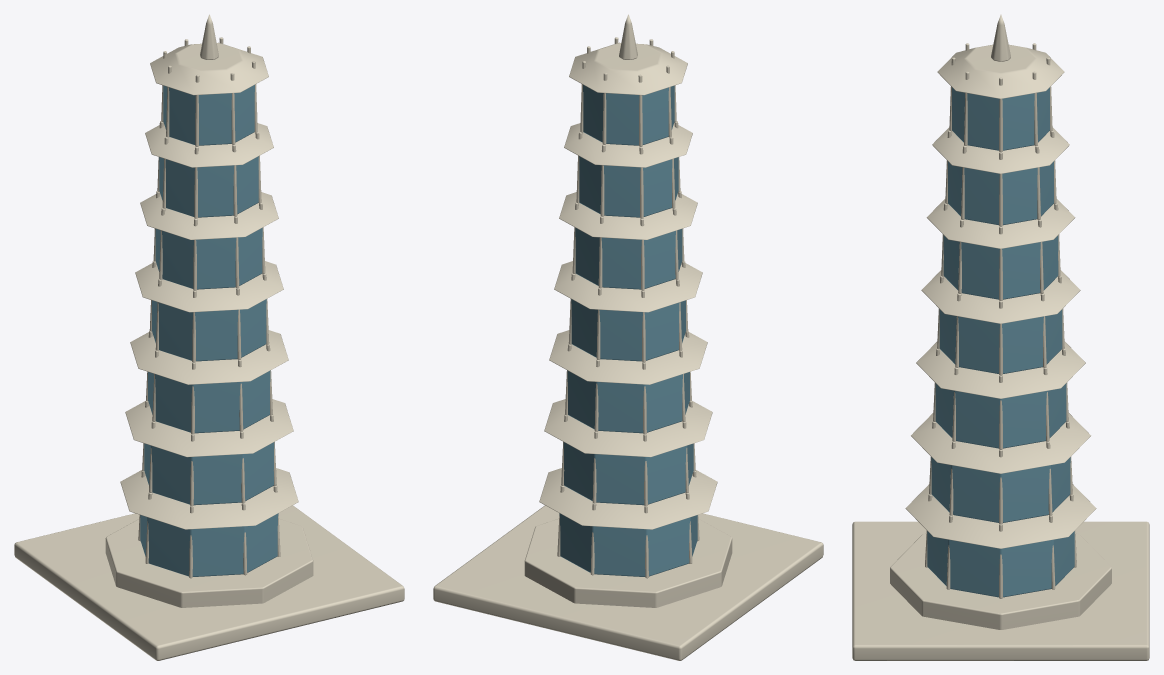
The model's file is baoen-original.glb.
3 views of the same model, side by side, from view 1: azimuth 30°, elevation 25°; view 2: azimuth 150°, elevation 25°; view 3: azimuth 270°, elevation 25° (orthographic). The views are drawn at different scales.
Parts seen in each view (by area): view 1: heritage platform, modern porcelain tower foundation, modern porcelain tower storey, modern porcelain tower storey.001, modern porcelain tower storey.002, modern porcelain tower storey.003, modern porcelain tower eave, modern porcelain tower storey.004, modern porcelain tower eave.001, modern porcelain tower storey.005, modern porcelain tower eave.006, modern porcelain tower storey.006 (+4 smaller); view 2: heritage platform, modern porcelain tower foundation, modern porcelain tower storey, modern porcelain tower storey.001, modern porcelain tower storey.002, modern porcelain tower storey.003, modern porcelain tower eave, modern porcelain tower storey.004, modern porcelain tower eave.001, modern porcelain tower storey.005, modern porcelain tower eave.006, modern porcelain tower storey.006 (+4 smaller); view 3: heritage platform, modern porcelain tower foundation, modern porcelain tower storey, modern porcelain tower storey.001, modern porcelain tower storey.002, modern porcelain tower storey.003, modern porcelain tower storey.004, modern porcelain tower eave, modern porcelain tower storey.005, modern porcelain tower eave.001, modern porcelain tower eave.006, modern porcelain tower storey.006 (+5 smaller).
Boxes of the visible parts, box(x1,y1,x2,y2) form: heritage platform: box(14, 505, 404, 660); modern porcelain tower foundation: box(105, 518, 313, 607); modern porcelain tower storey: box(140, 513, 278, 576); modern porcelain tower storey.001: box(144, 442, 274, 505); modern porcelain tower storey.002: box(148, 370, 270, 433); modern porcelain tower storey.003: box(152, 299, 266, 361); modern porcelain tower eave: box(120, 468, 298, 529); modern porcelain tower storey.004: box(155, 228, 262, 289); modern porcelain tower eave.001: box(125, 399, 293, 457); modern porcelain tower storey.005: box(159, 156, 258, 217); modern porcelain tower eave.006: box(150, 42, 268, 95); modern porcelain tower storey.006: box(163, 85, 254, 145); heritage platform: box(433, 505, 823, 660); modern porcelain tower foundation: box(524, 518, 732, 607); modern porcelain tower storey: box(559, 513, 697, 576); modern porcelain tower storey.001: box(563, 442, 693, 505); modern porcelain tower storey.002: box(567, 370, 689, 433); modern porcelain tower storey.003: box(571, 299, 685, 361); modern porcelain tower eave: box(539, 468, 717, 529); modern porcelain tower storey.004: box(575, 228, 682, 289); modern porcelain tower eave.001: box(544, 399, 712, 457); modern porcelain tower storey.005: box(579, 156, 678, 217); modern porcelain tower eave.006: box(569, 42, 687, 95); modern porcelain tower storey.006: box(583, 85, 674, 145); heritage platform: box(852, 521, 1149, 660); modern porcelain tower foundation: box(890, 533, 1111, 629); modern porcelain tower storey: box(927, 531, 1074, 597); modern porcelain tower storey.001: box(931, 457, 1070, 522); modern porcelain tower storey.002: box(935, 383, 1066, 448); modern porcelain tower storey.003: box(939, 309, 1062, 373); modern porcelain tower storey.004: box(943, 235, 1058, 299); modern porcelain tower eave: box(905, 484, 1096, 548); modern porcelain tower storey.005: box(947, 161, 1054, 225); modern porcelain tower eave.001: box(911, 413, 1090, 473); modern porcelain tower eave.006: box(937, 44, 1064, 98); modern porcelain tower storey.006: box(952, 87, 1049, 150).
Bounding box in the file's own units: 5 × 10.87 × 5.
